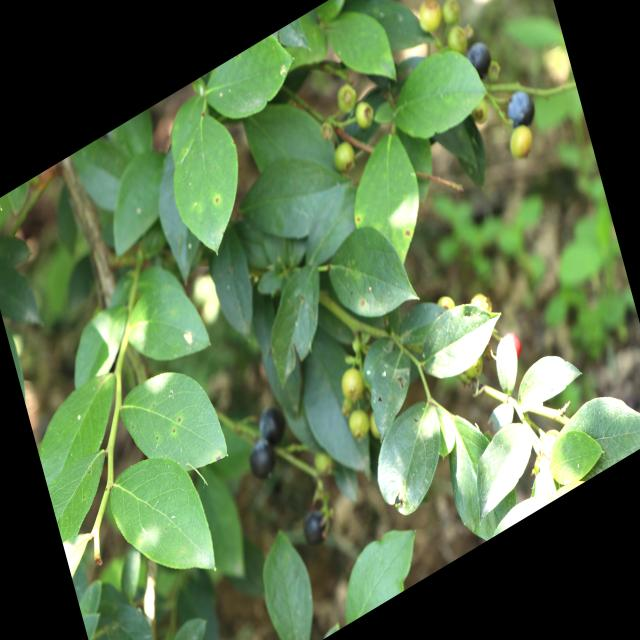blueberry: (502, 81, 540, 137), (464, 32, 496, 84), (245, 434, 278, 483), (256, 402, 287, 449), (300, 504, 331, 548)
blueberry-halfripe: (501, 326, 524, 364)
blueberry-unripe: (505, 116, 540, 168), (337, 361, 367, 406), (414, 0, 447, 38), (468, 284, 497, 326), (345, 402, 372, 446), (432, 284, 461, 323), (331, 137, 357, 178), (353, 98, 381, 136), (447, 21, 471, 60), (464, 351, 490, 387), (335, 81, 357, 115), (440, 0, 464, 28)
